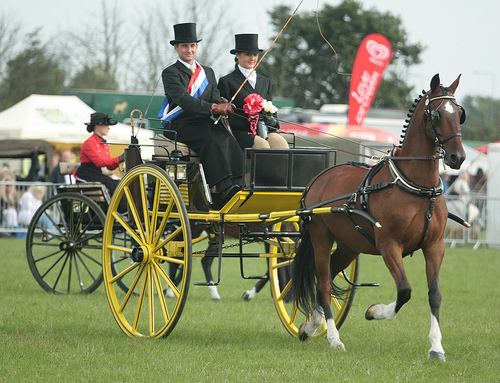horse: (288, 72, 466, 361)
